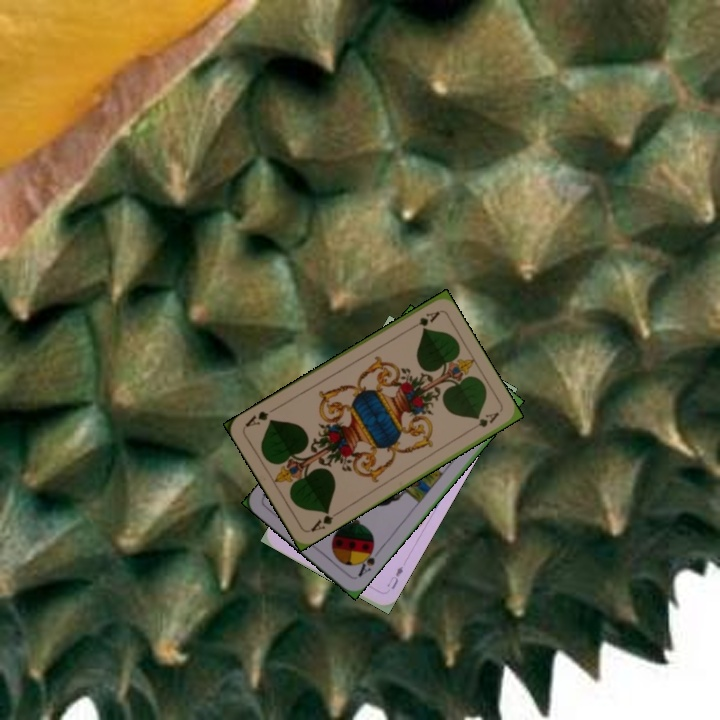EU: (383, 562, 406, 592)
GA: (307, 506, 342, 535), (404, 307, 442, 333)
SA: (353, 542, 378, 579)
